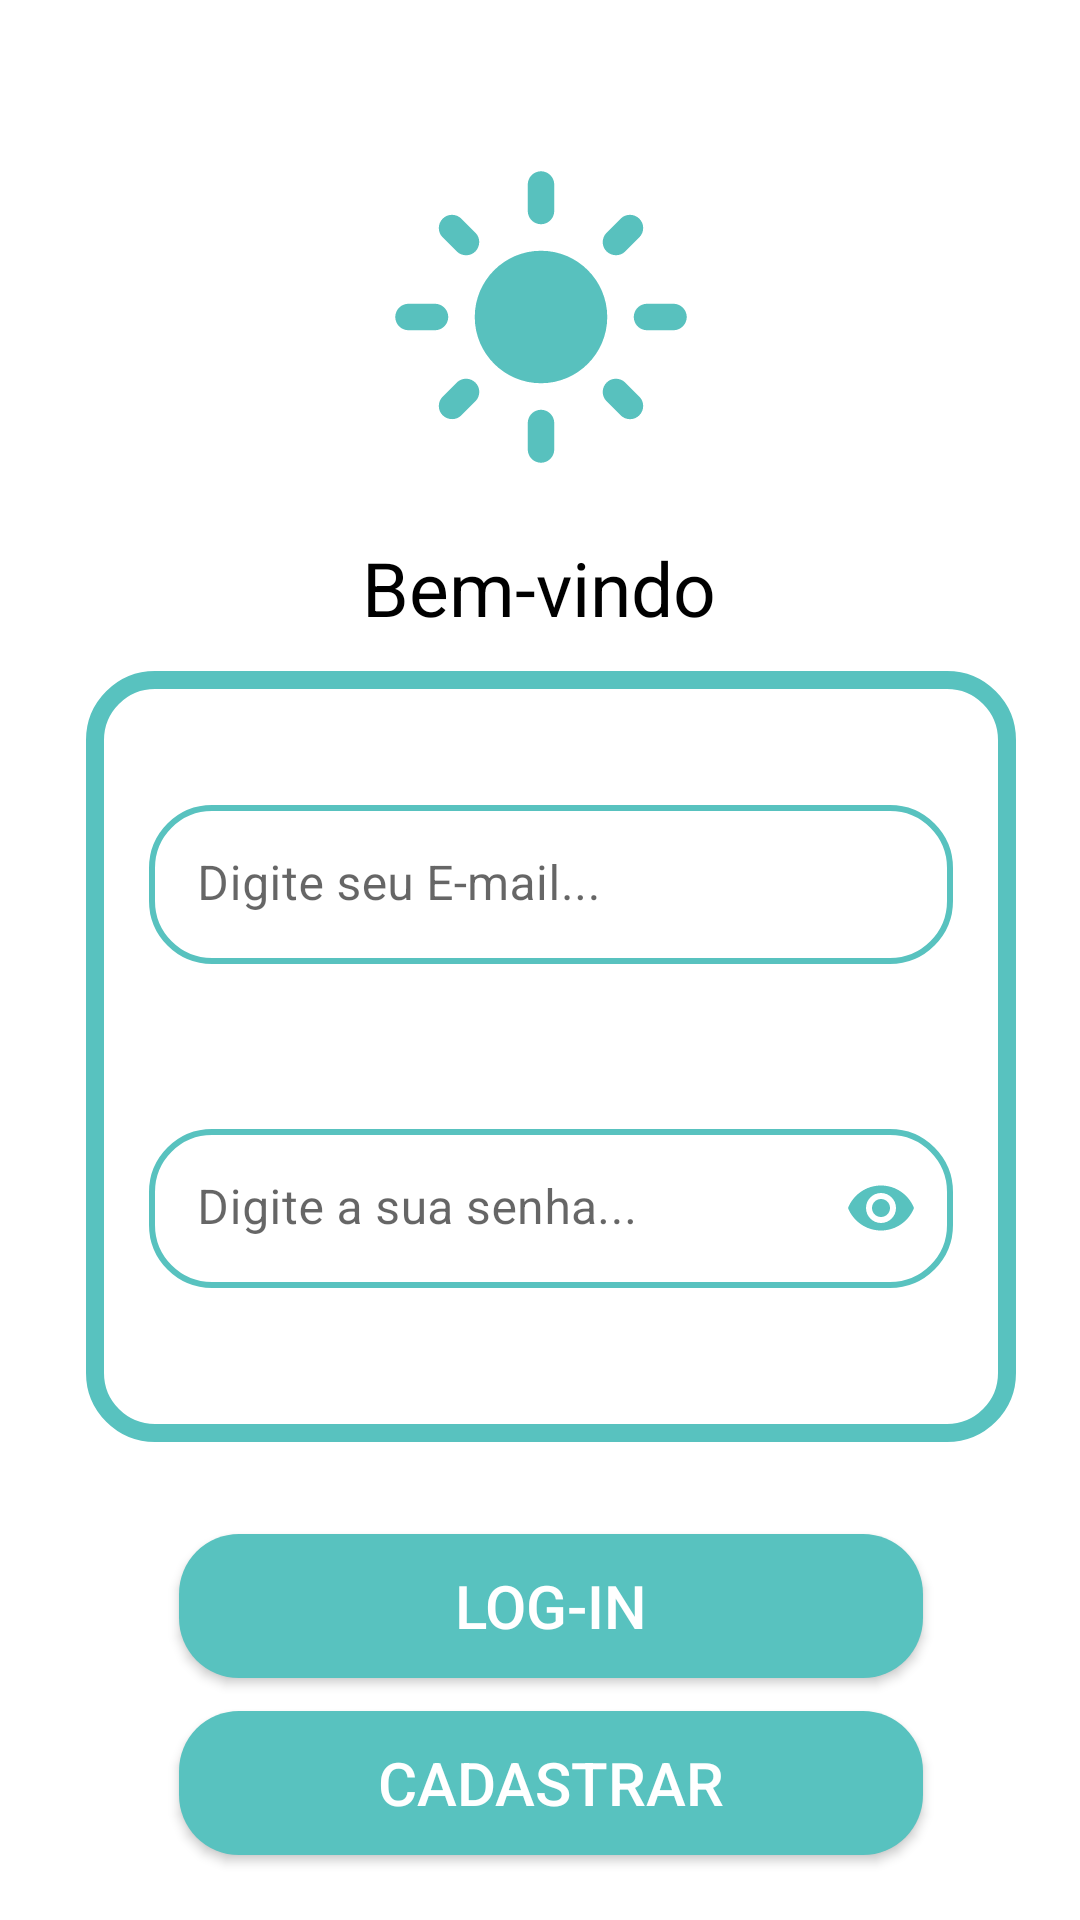

Where icons sit on this 1080 × 1920 app screen, as (x1, y1, x2, y2):
mode: (395, 171, 687, 463)
